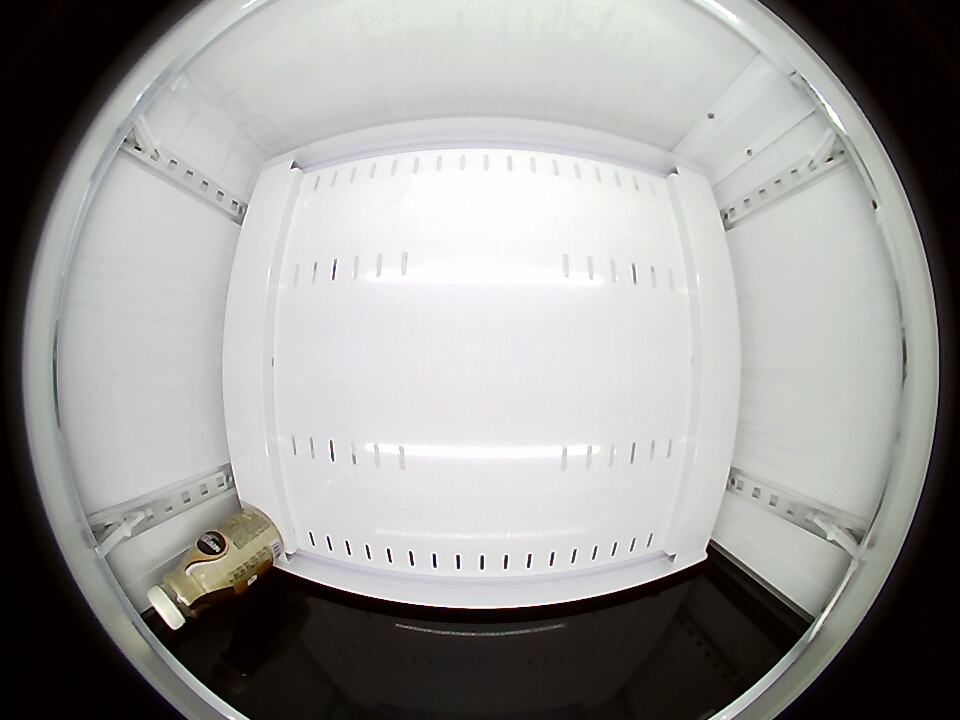kafei: (147, 543, 234, 630)
